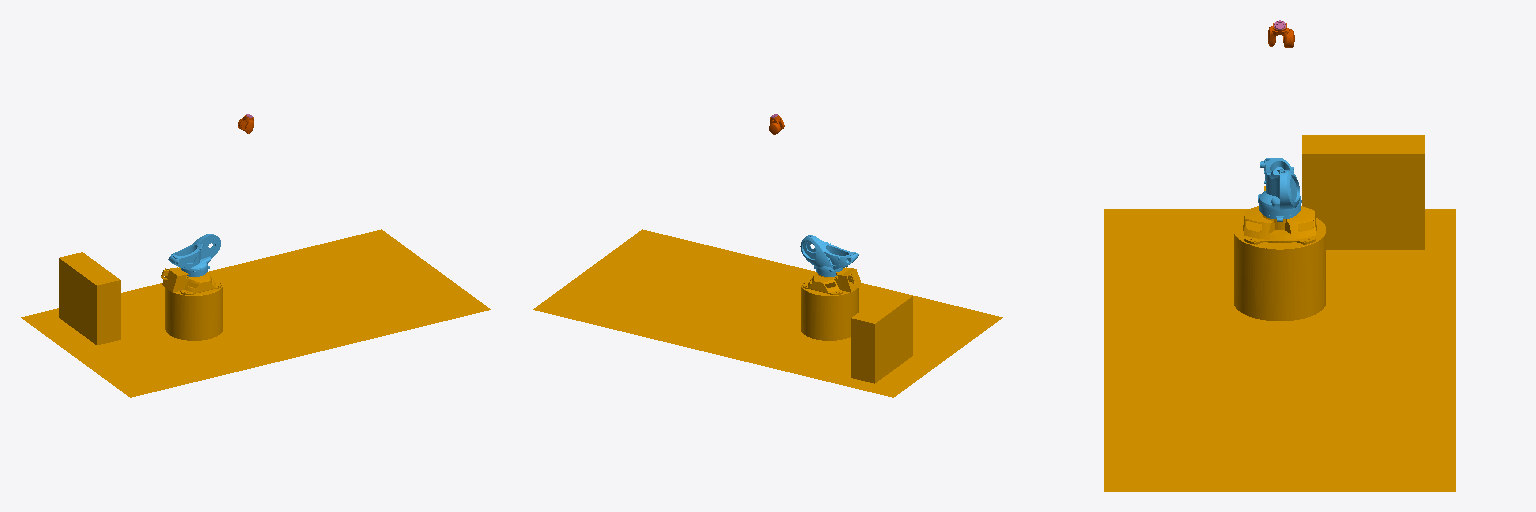
robot.urdf — kuka_kr903dp:
<?xml version="1.0" ?>
<!-- =================================================================================== -->
<!-- |    This document was autogenerated by xacro from [local-path]/catkin_ws/src/kuka_experimental/kuka_kr90uap_support/urdf/kr90r2700prouap.xacro | -->
<!-- |    EDITING THIS FILE BY HAND IS NOT RECOMMENDED                                 | -->
<!-- =================================================================================== -->
<!--Generates a urdf from the macro in kr90r2700proUAP_macro.xacro -->
<robot name="kuka_kr903dp" xmlns:xacro="http://wiki.ros.org/xacro">
  <!-- LINKS -->
  <!-- base link -->
  <link name="base_link">
    <!-- inertial -->
    <!-- origin xyz="0 0 0" rpy="0 0 0"/ -->
    <!-- color name="green" / -->
    <!-- mass value="2"/ -->
    <!-- inertia ixx="0.01" ixy="0" ixz="0" iyy="0.01" iyz="0" izz="0.01" / -->
    <!-- /inertial -->
    <visual>
      <origin rpy="0 0 0" xyz="0 0 0"/>
      <geometry>
        <mesh filename="package://kuka_kr90uap_support/meshes/kr90r2700pro/visual/base_link.stl"/>
      </geometry>
    </visual>
    <collision>
      <origin rpy="0 0 0" xyz="0 0 0"/>
      <geometry>
        <mesh filename="package://kuka_kr90uap_support/meshes/kr90r2700pro/collision/base_link.stl"/>
      </geometry>
    </collision>
  </link>
  <!-- link 1 (A1) -->
  <link name="link_1">
    <inertial>
      <origin rpy="0 0 0" xyz="0 0 0"/>
      <color name="blue"/>
      <mass value="2"/>
      <inertia ixx="0.01" ixy="0" ixz="0" iyy="0.01" iyz="0" izz="0.01"/>
    </inertial>
    <visual>
      <origin rpy="0 0 0" xyz="0 0 0"/>
      <geometry>
        <mesh filename="package://kuka_kr90uap_support/meshes/kr90r2700pro/visual/link_1.stl"/>
      </geometry>
    </visual>
    <collision>
      <origin rpy="0 0 0" xyz="0 0 0"/>
      <geometry>
        <mesh filename="package://kuka_kr90uap_support/meshes/kr90r2700pro/collision/link_1.stl"/>
      </geometry>
    </collision>
  </link>
  <!-- link 2 -->
  <link name="link_2">
    <inertial>
      <origin rpy="0 0 0" xyz="0 0 0"/>
      <color name="green"/>
      <mass value="2"/>
      <inertia ixx="0.01" ixy="0" ixz="0" iyy="0.01" iyz="0" izz="0.01"/>
    </inertial>
    <visual>
      <origin rpy="0 0 0" xyz="0 0 0"/>
      <geometry>
        <mesh filename="package://kuka_kr90uap_support/meshes/kr90r2700pro/visual/link_2.stl"/>
      </geometry>
    </visual>
    <collision>
      <origin rpy="0 0 0" xyz="0 0 0"/>
      <geometry>
        <mesh filename="package://kuka_kr90uap_support/meshes/kr90r2700pro/collision/link_2.stl"/>
      </geometry>
    </collision>
  </link>
  <!-- link 3 -->
  <link name="link_3">
    <inertial>
      <origin rpy="0 0 0" xyz="0 0 0"/>
      <color name="blue"/>
      <mass value="2"/>
      <inertia ixx="0.01" ixy="0" ixz="0" iyy="0.01" iyz="0" izz="0.01"/>
    </inertial>
    <visual>
      <origin rpy="0 0 0" xyz="0 0 0"/>
      <geometry>
        <mesh filename="package://kuka_kr90uap_support/meshes/kr90r2700pro/visual/link_3.stl"/>
      </geometry>
    </visual>
    <collision>
      <origin rpy="0 0 0" xyz="0 0 0"/>
      <geometry>
        <mesh filename="package://kuka_kr90uap_support/meshes/kr90r2700pro/collision/link_3.stl"/>
      </geometry>
    </collision>
  </link>
  <!-- link 4 -->
  <link name="link_4">
    <inertial>
      <origin rpy="0 0 0" xyz="0 0 0"/>
      <color name="green"/>
      <mass value="2"/>
      <inertia ixx="0.01" ixy="0" ixz="0" iyy="0.01" iyz="0" izz="0.01"/>
    </inertial>
    <visual>
      <origin rpy="0 0 0" xyz="0 0 0"/>
      <geometry>
        <mesh filename="package://kuka_kr90uap_support/meshes/kr90r2700pro/visual/link_4.stl"/>
      </geometry>
    </visual>
    <collision>
      <origin rpy="0 0 0" xyz="0 0 0"/>
      <geometry>
        <mesh filename="package://kuka_kr90uap_support/meshes/kr90r2700pro/collision/link_4.stl"/>
      </geometry>
    </collision>
  </link>
  <!-- link 5 -->
  <link name="link_5">
    <inertial>
      <origin rpy="0 0 0" xyz="0 0 0"/>
      <color name="blue"/>
      <mass value="2"/>
      <inertia ixx="0.01" ixy="0" ixz="0" iyy="0.01" iyz="0" izz="0.01"/>
    </inertial>
    <visual>
      <origin rpy="0 0 0" xyz="0 0 0"/>
      <geometry>
        <mesh filename="package://kuka_kr90uap_support/meshes/kr90r2700pro/visual/link_5.stl"/>
      </geometry>
    </visual>
    <collision>
      <origin rpy="0 0 0" xyz="0 0 0"/>
      <geometry>
        <mesh filename="package://kuka_kr90uap_support/meshes/kr90r2700pro/collision/link_5.stl"/>
      </geometry>
    </collision>
  </link>
  <!-- link 6 -->
  <link name="link_6">
    <inertial>
      <origin rpy="0 0 0" xyz="0 0 0"/>
      <mass value="2"/>
      <inertia ixx="0.01" ixy="0" ixz="0" iyy="0.01" iyz="0" izz="0.01"/>
    </inertial>
    <visual>
      <origin rpy="0 0 0" xyz="0 0 0"/>
      <geometry>
        <mesh filename="package://kuka_kr90_support/meshes/kr90r2700pro/visual/link_6.stl"/>
      </geometry>
    </visual>
    <collision>
      <origin rpy="0 0 0" xyz="0 0 0"/>
      <geometry>
        <mesh filename="package://kuka_kr90_support/meshes/kr90r2700pro/collision/link_6.stl"/>
      </geometry>
    </collision>
  </link>
  <!-- link 7 - UAP kuka 3dp extrusion head -->
  <link name="link_7">
    <inertial>
      <origin rpy="0 0 0" xyz="0 0 0"/>
      <mass value="10"/> <!--rando number-->
      <inertia ixx="0.01" ixy="0" ixz="0" iyy="0.01" iyz="0" izz="0.01"/>
    </inertial>
    <visual>
      <origin rpy="0 0 0" xyz="0 0 0"/>
      <geometry>
        <mesh filename="package://kuka_kr903dp_support/meshes/visual/Extruder_wHopper_R6.dae" scale="0.001 0.001 0.001"/>
      </geometry>
    </visual>
    <collision>
      <origin rpy="0 0 0" xyz="0 0 0"/>
      <geometry>
        <mesh filename="package://kuka_kr903dp_support/meshes/collision/Extruder_wHopper_R6.stl"/>
      </geometry>
    </collision>
  </link>
  <link name="extrude_eef"/>
  <!-- tool 0 -->
  <!-- This frame corresponds to the $FLANGE coordinate system in KUKA KRC controllers. -->
  <link name="tool0"/>
  <!-- END LINKS -->
  <!-- JOINTS -->
  <!-- joint 1 (A1) -->
  <joint name="joint_a1" type="revolute">
    <origin rpy="0 0 0" xyz="0 0 0.675"/>
    <parent link="base_link"/>
    <child link="link_1"/>
    <axis xyz="0 0 -1"/>
    <limit effort="0" lower="-3.22885911619" upper="3.22885911619" velocity="2.37364778271"/>
  </joint>
  <!-- joint 2 (A2) -->
  <joint name="joint_a2" type="revolute">
    <origin rpy="0 1.57079632679 0" xyz="0.35 0 0"/>
    <parent link="link_1"/>
    <child link="link_2"/>
    <axis xyz="0 1 0"/>
    <limit effort="0" lower="-2.44346095279" upper="-0.0872664625997" velocity="2.26892802759"/>
    <!-- limit effort="0" lower="${-DEG2RAD * 50}" upper="${DEG2RAD * 85}" velocity="${DEG2RAD * 130}"/ -->
  </joint>
  <!-- joint 3 (A3) -->
  <joint name="joint_a3" type="revolute">
    <origin rpy="0 -1.57079632679 0" xyz="0 0 1.150"/>
    <parent link="link_2"/>
    <child link="link_3"/>
    <axis xyz="0 1 0"/>
    <limit effort="0" lower="-2.09439510239" upper="2.70526034059" velocity="2.09439510239"/>
    <!-- limit effort="0" lower="${-DEG2RAD * 210}" upper="${DEG2RAD * 65}" velocity="${DEG2RAD * 120}"/ -->
  </joint>
  <!-- joint 4 (A4) -->
  <joint name="joint_a4" type="revolute">
    <origin rpy="0 0 0" xyz="1.20 0 -0.041"/>
    <parent link="link_3"/>
    <child link="link_4"/>
    <axis xyz="-1 0 0"/>
    <limit effort="0" lower="-3.490658504" upper="3.490658504" velocity="5.09636141582"/>
  </joint>
  <!-- joint 5 (A5) -->
  <joint name="joint_a5" type="revolute">
    <origin rpy="0 0 0" xyz="0 0 0"/>
    <parent link="link_4"/>
    <child link="link_5"/>
    <axis xyz="0 1 0"/>
    <limit effort="0" lower="-2.18166156499" upper="2.18166156499" velocity="4.50294947015"/>
  </joint>
  <!-- joint 6 (A6) -->
  <joint name="joint_a6" type="revolute">
    <origin rpy="0 0 0" xyz="0 0 0"/>
    <parent link="link_5"/>
    <child link="link_6"/>
    <axis xyz="-1 0 0"/>
    <limit effort="0" lower="-6.10865238198" upper="6.10865238198" velocity="4.95673507566"/>
  </joint>
  <!-- joint 7 (A7) -->
  <joint name="joint_a7" type="fixed">
    <origin rpy="0 0 0" xyz="0 0 0"/>
    <parent link="tool0"/>
    <child link="link_7"/>
  </joint>
  <!-- tool frame - fixed frame -->
  <joint name="joint_a6-tool0" type="fixed">
    <parent link="link_6"/>
    <child link="tool0"/>
    <origin rpy="0 1.57079632679 0" xyz="0.215 0 0"/>
  </joint>
  <!-- extruder eef frame -->
  <joint name="joint_extrude_eef" type="fixed">
    <parent link="link_7"/>
    <child link="extrude_eef"/>
    <!-- <origin rpy="0 0 0" xyz="0.17576813 0.0086262 0.2244498"/> -->
    <origin rpy="0 0 0" xyz="0.8 0.0086262 0.1"/>
  </joint>
  <!--joint name="joint_a7-tool0" type="fixed">
    <parent link="link_7"/>
    <child link="tool0"/>
    <origin rpy="0 0 0" xyz="0 0 0"/>
  </joint -->
  <!-- END JOINTS -->
  <!-- ROS base_link to KUKA $ROBROOT coordinate system transform -->
  <link name="base"/>
  <joint name="base_link-base" type="fixed">
    <origin rpy="0 0 0" xyz="0 0 0"/>
    <parent link="base_link"/>
    <child link="base"/>
  </joint>
</robot>

--- Render facts (derived) ---
The picture shows the robot from 3 angles, left to right: view 1: azimuth 30°, elevation 25°; view 2: azimuth 150°, elevation 25°; view 3: azimuth 270°, elevation 25°; orthographic projection.
Model kuka_kr903dp with 11 links and 10 joints (6 revolute, 4 fixed), rooted at base_link, posed all joints at 0 but 1 set to mid-range because 0 is outside their limits (joint_a2 = -1.27).
Visible links, largest first — view 1: base_link, link_1; view 2: base_link, link_1; view 3: base_link, link_1.
Link boxes in pixels (x1,y1,x2,y2): base_link: [21, 229, 490, 397]; link_1: [168, 234, 220, 276]; base_link: [533, 229, 1002, 397]; link_1: [800, 235, 858, 276]; base_link: [1104, 135, 1455, 491]; link_1: [1258, 158, 1301, 221].
Bounding box of the posed robot: 7.59 × 4 × 4.03 m (x, y, z).
Meshes: 8 distinct files referenced, 4 mesh visuals loaded (4 binary STL); not drawn: 3 (reference not matched to a file when rendering), 1 (file found but could not be loaded).